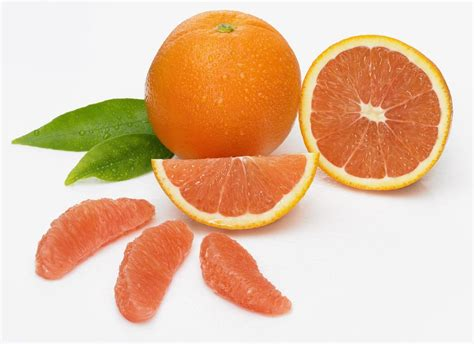orange: (138, 6, 301, 156)
